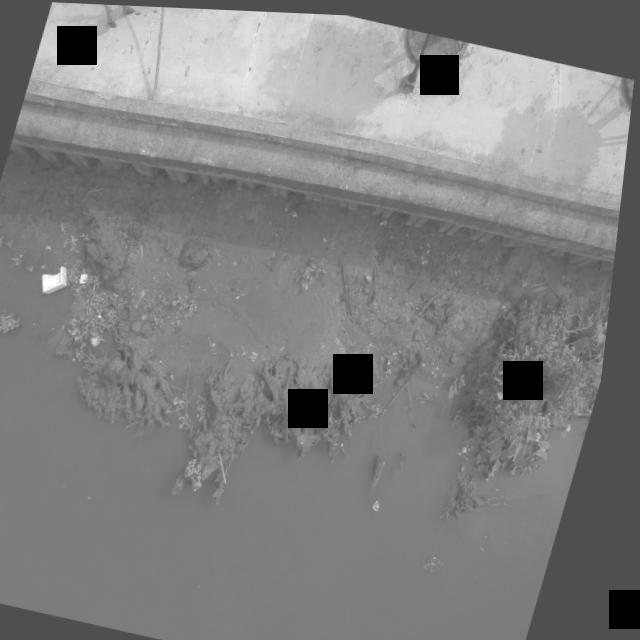plastic: (42, 252, 80, 303), (451, 364, 478, 399), (80, 264, 98, 289), (91, 327, 112, 347), (380, 488, 396, 510), (421, 248, 437, 263), (503, 383, 516, 400), (255, 345, 267, 363), (368, 268, 381, 281), (141, 284, 153, 298), (469, 439, 481, 451), (381, 213, 395, 223), (292, 206, 303, 217), (391, 363, 402, 374), (428, 385, 440, 395), (175, 369, 185, 379), (285, 339, 294, 350), (285, 201, 293, 211), (457, 264, 467, 272), (505, 296, 513, 306), (170, 267, 178, 276), (398, 346, 406, 354), (427, 355, 434, 364), (392, 356, 401, 363), (103, 310, 110, 319), (237, 256, 244, 265), (164, 356, 171, 365), (5, 170, 12, 178), (397, 258, 403, 267), (239, 292, 246, 299), (271, 216, 278, 223), (3, 191, 10, 197), (194, 192, 199, 200), (342, 337, 348, 343), (201, 197, 208, 202), (448, 368, 454, 373), (438, 365, 443, 371), (375, 339, 381, 344), (442, 380, 447, 385), (443, 361, 448, 366), (243, 211, 248, 216), (251, 342, 255, 347)
